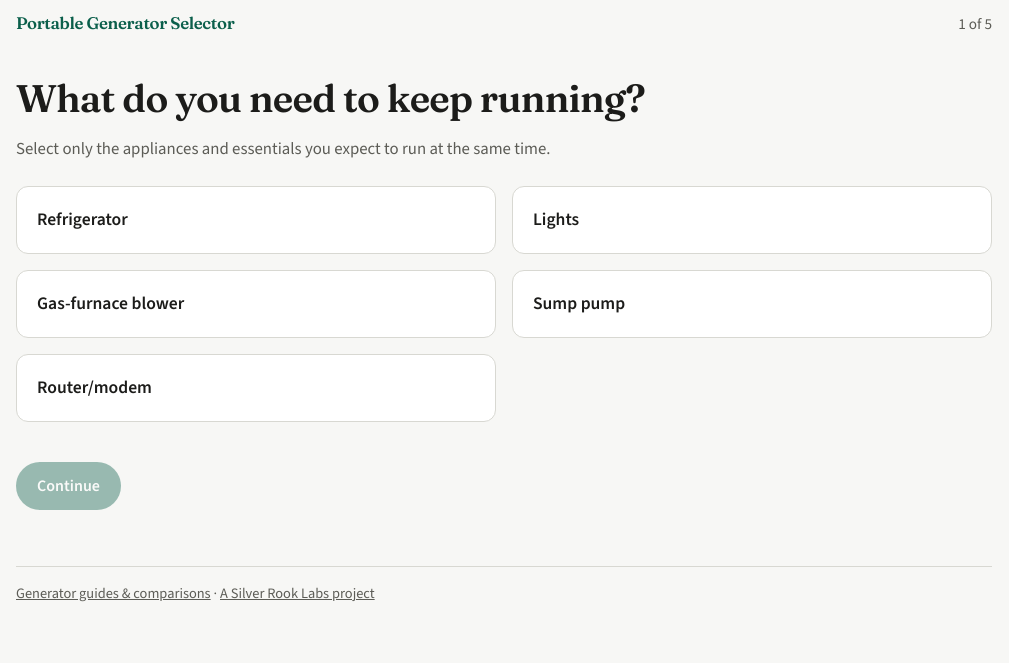
Questionnaire App › cannot advance from loads with no selection
Expected: the button "Continue" is disabled, [16,462,121,510]
Click the button "Refrigerator" at (82, 219), box [16,186,496,254]
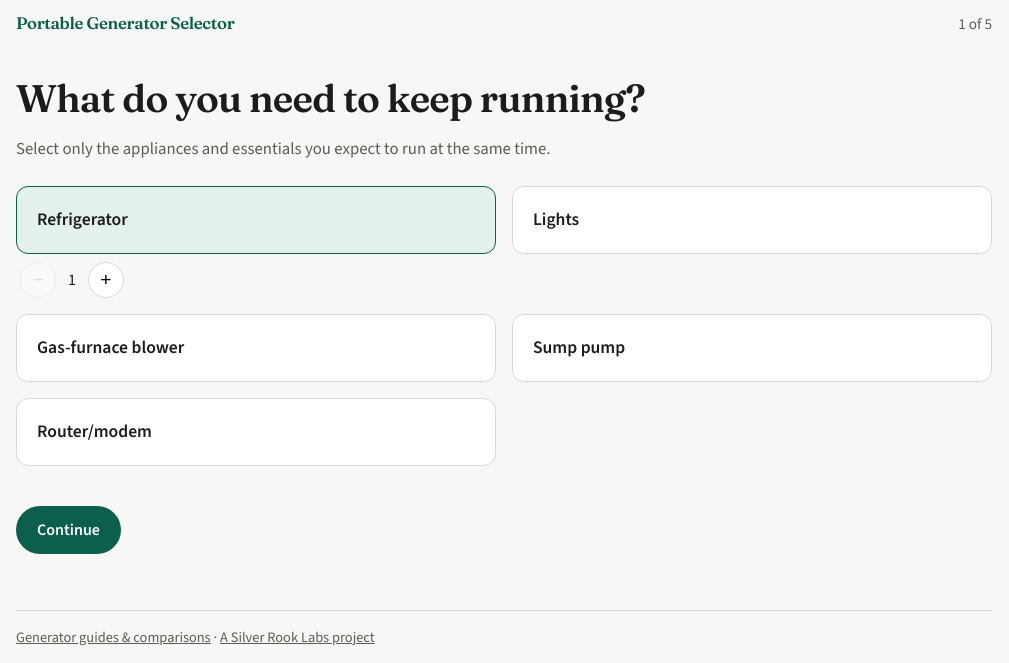
Result: the button "Continue" is enabled at [16,506,121,554]
